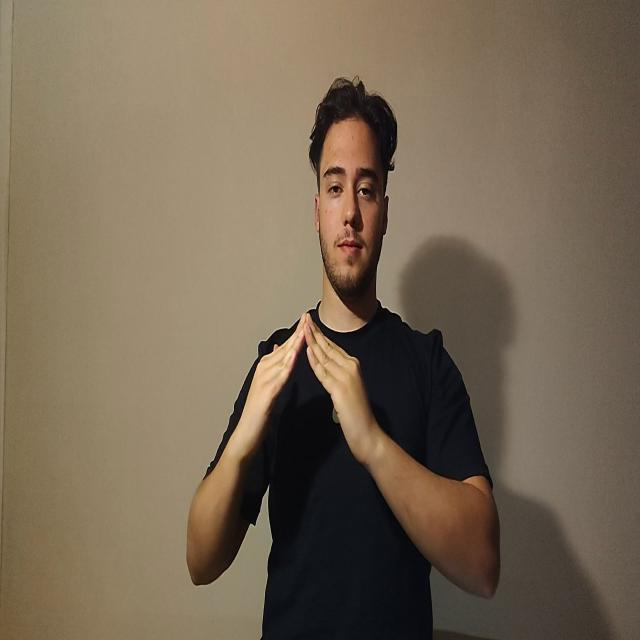house: (239, 307, 376, 472)
